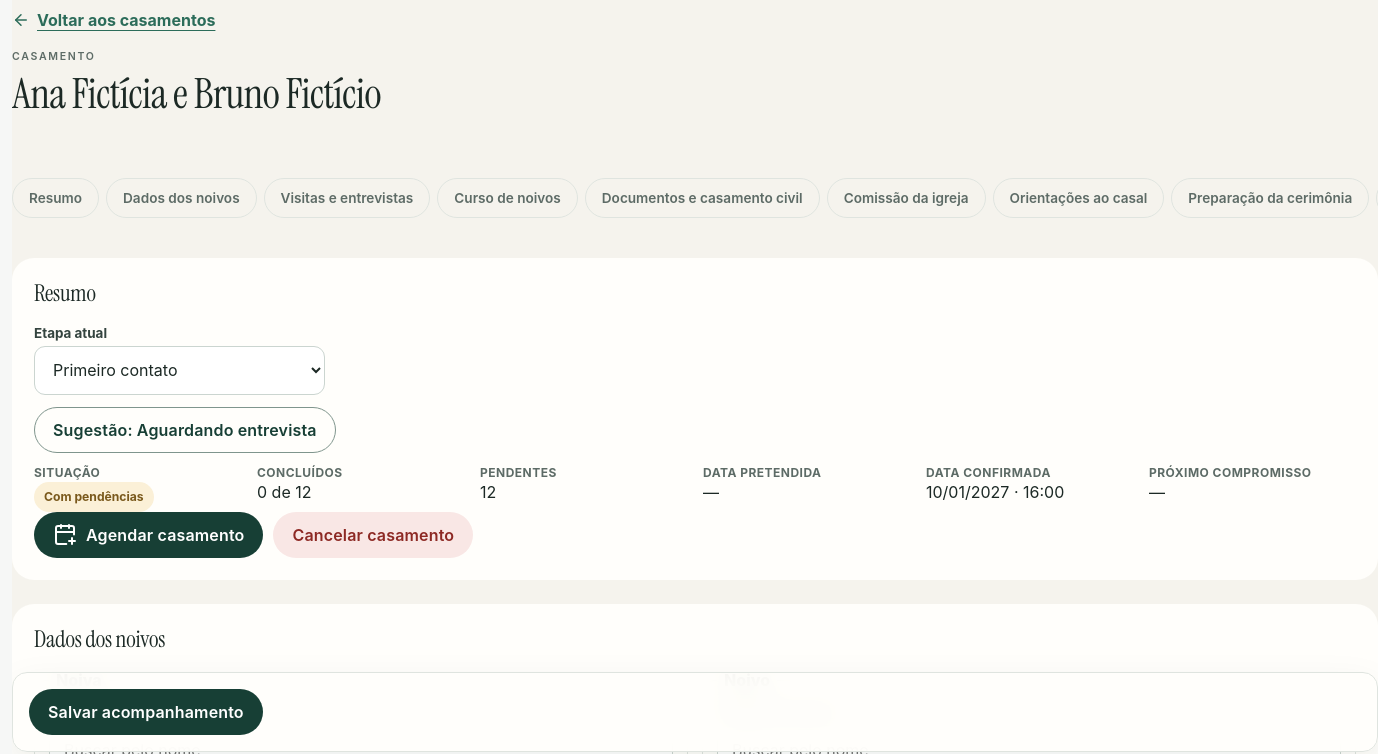
Test: página do acompanhamento › a etapa é do pastor: a sugestão aparece, mas nada muda sozinho
Expected: the dropdown labelled "Etapa atual" shows "Primeiro contato", [34,346,325,395]
Click the button "Sugestão: Aguardando entrevista" at [185, 430], box [34,407,336,453]
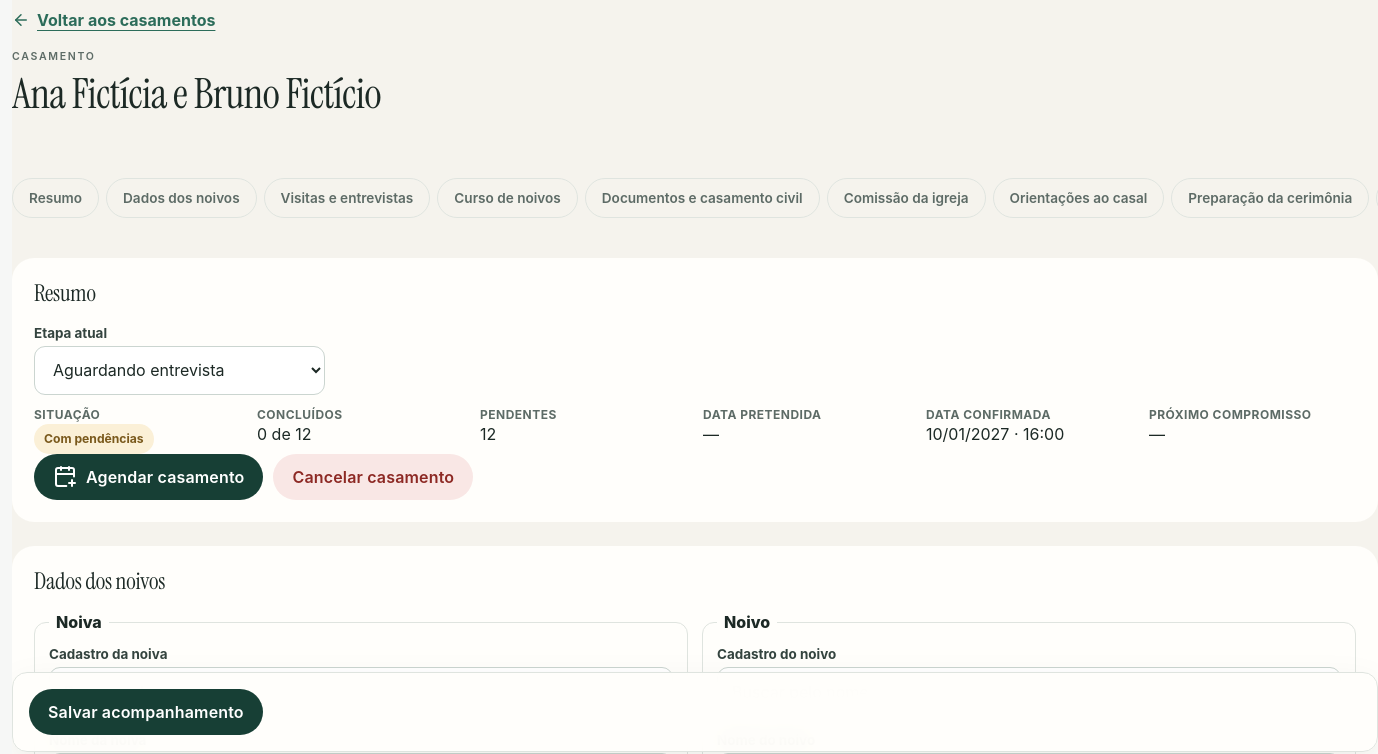
Expected: the dropdown labelled "Etapa atual" shows "Aguardando entrevista", [34,346,325,395]
